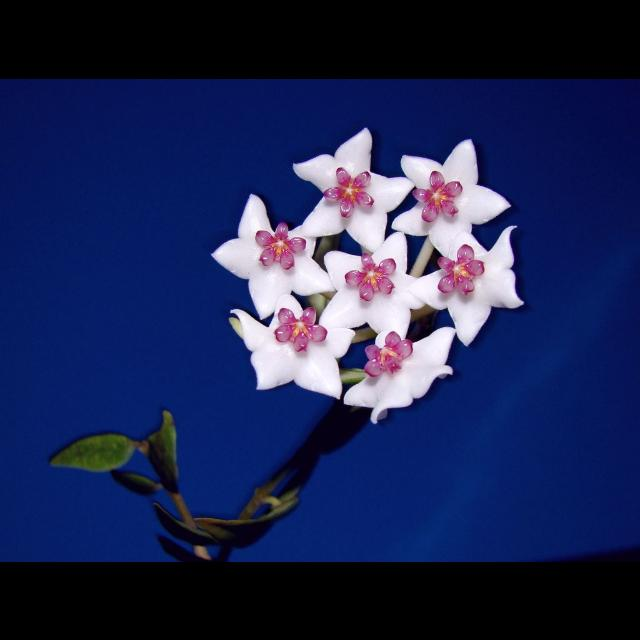Flower: (206, 189, 332, 317), (290, 124, 414, 252), (404, 224, 528, 348), (390, 137, 512, 257), (246, 288, 352, 392), (342, 329, 454, 423)
